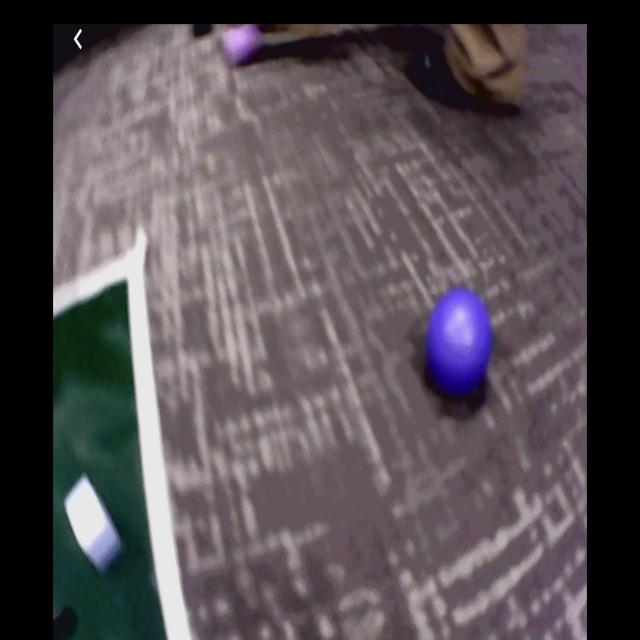ball: (426, 290, 493, 394), (225, 27, 266, 70)
